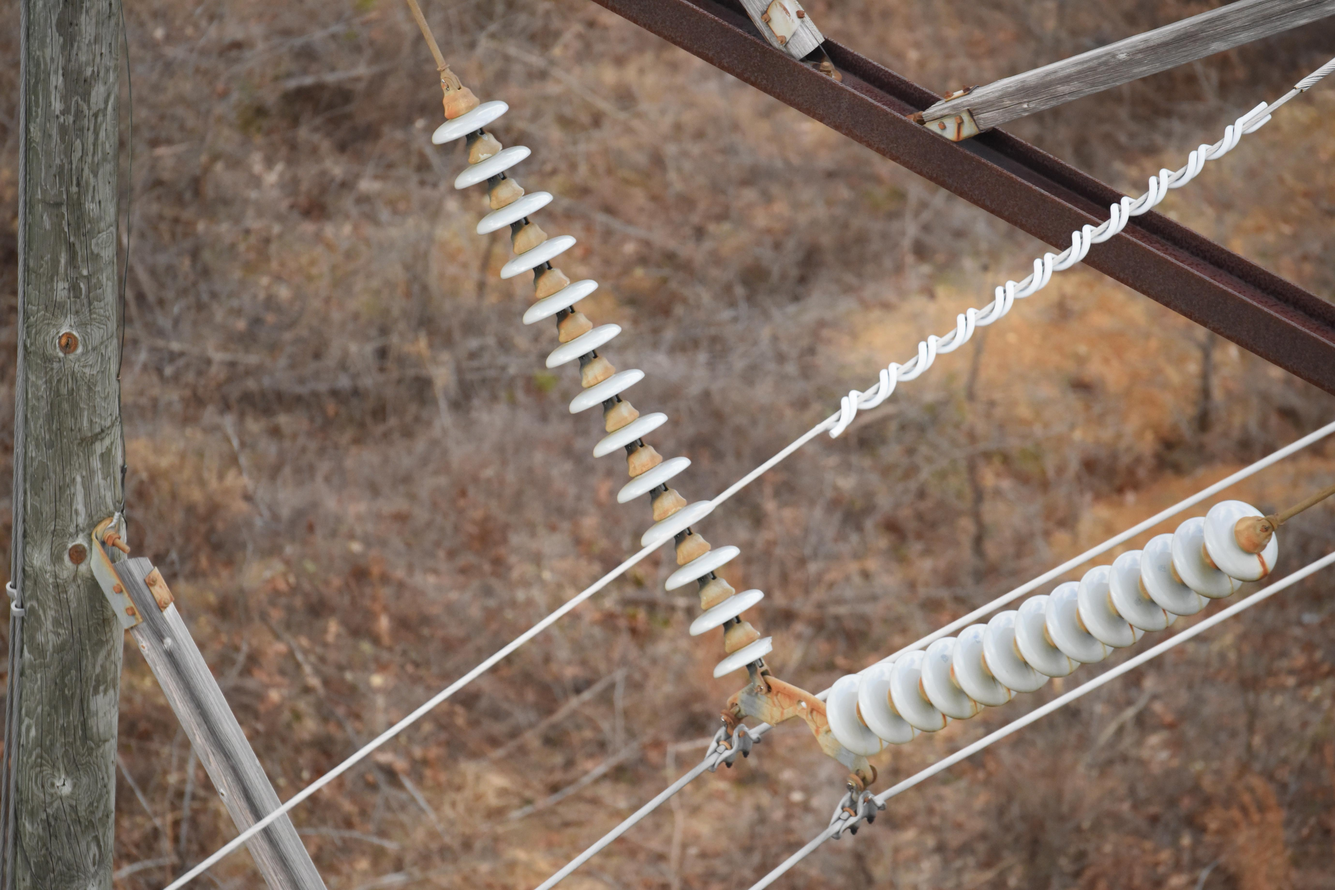damaged: (736, 623, 778, 674)
insulator: (429, 83, 785, 684), (827, 495, 1276, 756)
